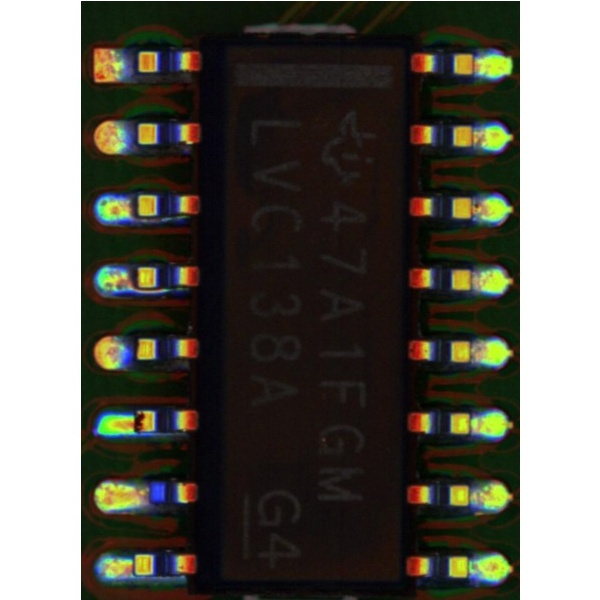Bad_podu: (120, 561, 149, 574)
Bad_qiaojiao: (131, 214, 187, 222), (136, 430, 183, 439), (133, 287, 185, 295)
